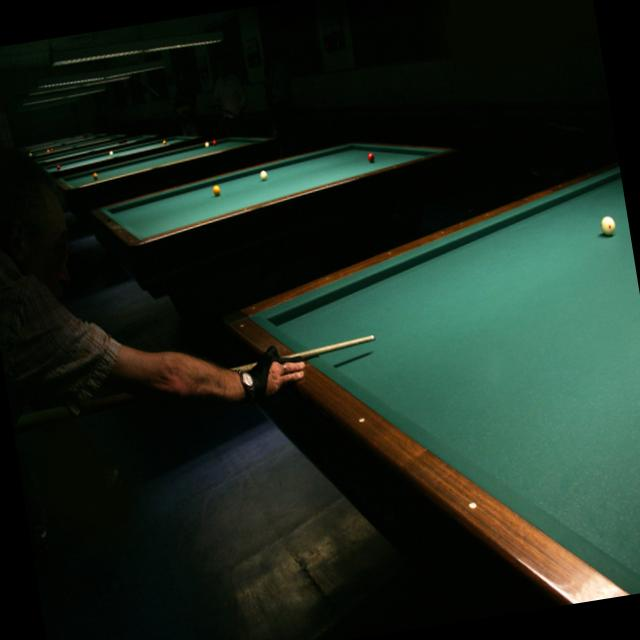Ball: (602, 213, 616, 236), (368, 152, 377, 164), (260, 168, 268, 180), (213, 183, 220, 196), (57, 164, 63, 170), (162, 141, 166, 148), (109, 150, 113, 157), (95, 172, 98, 181), (214, 140, 218, 146), (204, 140, 208, 146)
